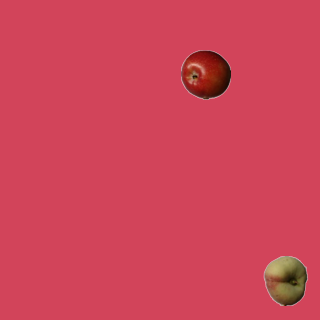Apple Braeburn: (180, 49, 230, 99)
Peach Flat: (260, 255, 310, 305)
